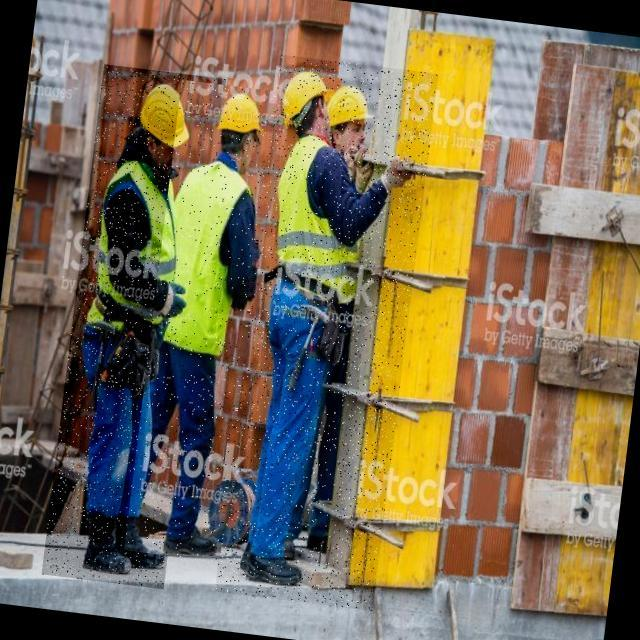Gloves: (153, 277, 192, 325), (380, 160, 421, 196), (347, 153, 376, 194)
Helmet: (137, 82, 199, 152), (282, 67, 331, 129), (219, 95, 272, 149), (327, 83, 378, 134)
Human: (214, 55, 438, 611), (41, 64, 226, 589), (124, 80, 283, 563)
Safety Boot: (82, 512, 137, 574), (114, 518, 169, 573), (238, 545, 306, 587), (167, 516, 225, 560)
Safety Vest: (160, 158, 261, 359), (84, 159, 192, 341), (262, 134, 368, 318)
